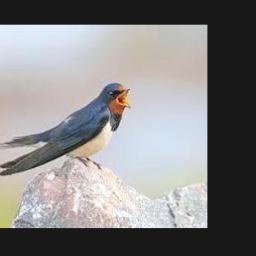Swallow: (0, 83, 131, 176)
